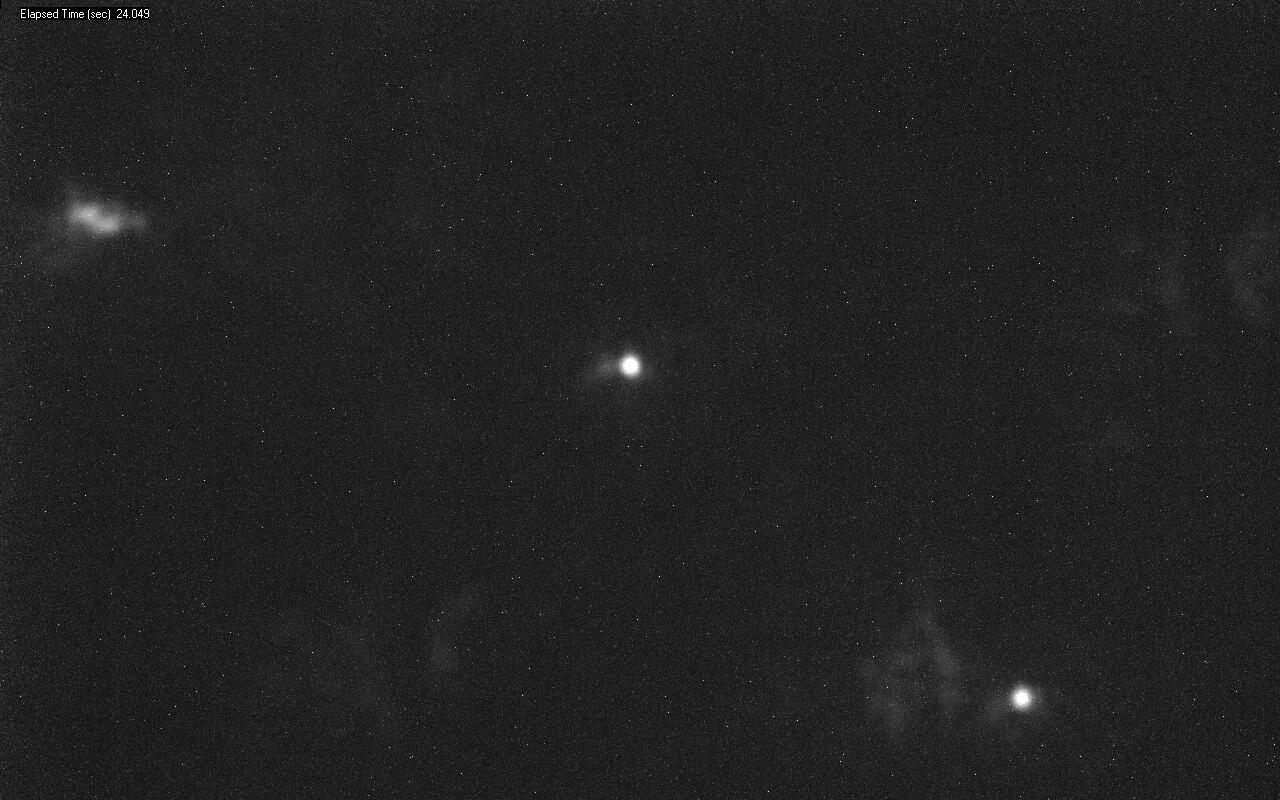Bead: (1011, 687, 1033, 709), (620, 356, 639, 376)
